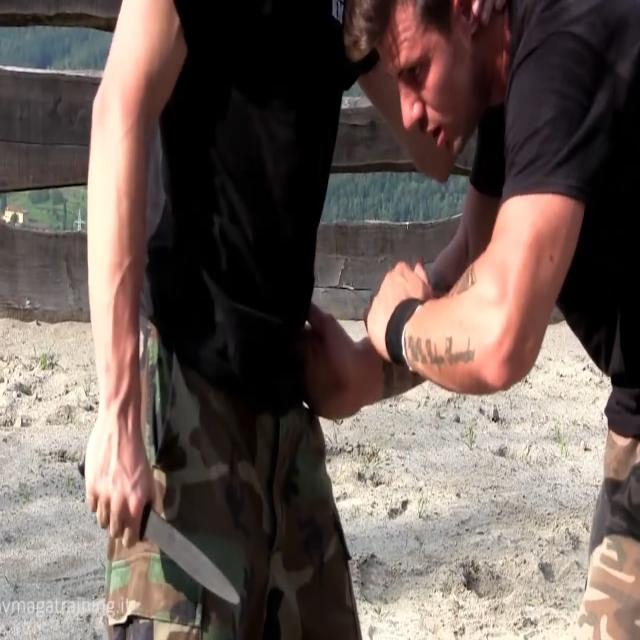knife: (144, 501, 245, 618)
